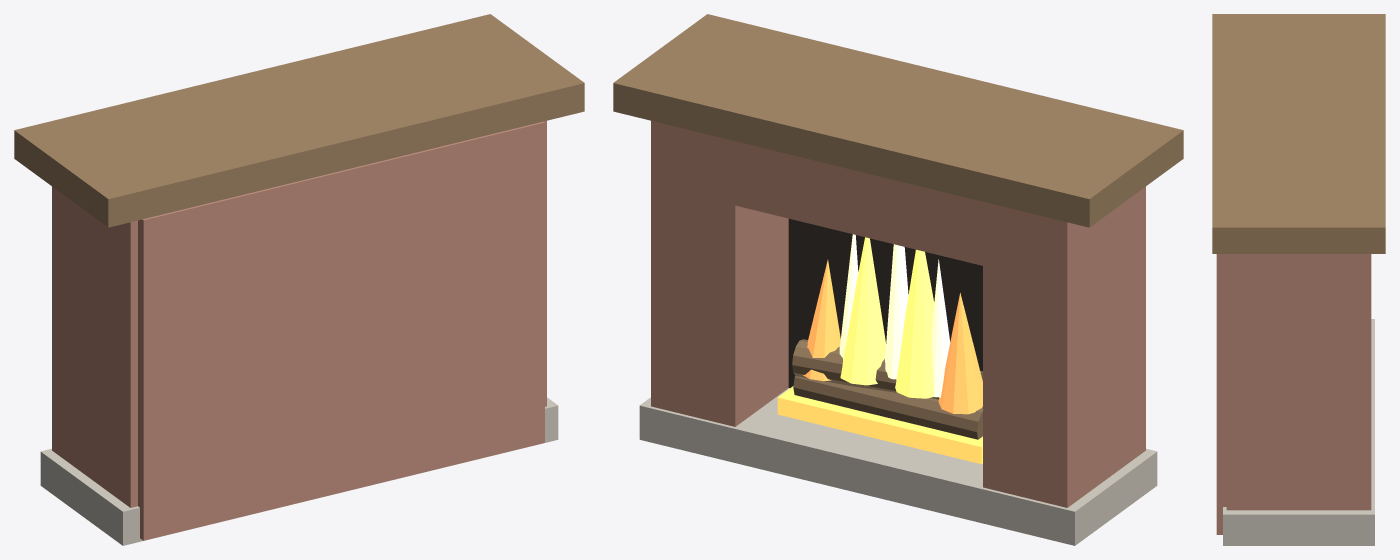
File: fireplace.glb
3 renders of one model, left to right at view 1: azimuth 30°, elevation 25°; view 2: azimuth 150°, elevation 25°; view 3: azimuth 270°, elevation 25°, orthographic. The views are drawn at different scales.
Parts seen in each view (by area): view 1: Cube, Cube.005, Cube.002, Cube.001; view 2: Cube.005, Cube.002, Cube.003, Cube.001, Cube.004, Cube.006, Cube.008, Cylinder, Cone.001, Cone.002, Cone, Cone.004 (+4 smaller); view 3: Cube.005, Cube.003, Cube.001, Cube.
Boxes of the visible parts, x1,y1,x2,y2 form: Cube: [138, 121, 544, 540]; Cube.005: [14, 14, 584, 227]; Cube.002: [52, 186, 137, 507]; Cube.001: [40, 397, 558, 545]; Cube.005: [613, 14, 1183, 227]; Cube.002: [983, 186, 1145, 507]; Cube.003: [651, 121, 788, 426]; Cube.001: [639, 388, 1157, 545]; Cube.004: [651, 121, 1066, 285]; Cube.006: [788, 218, 982, 387]; Cube.008: [777, 386, 982, 464]; Cylinder: [793, 375, 982, 439]; Cone.001: [895, 249, 934, 398]; Cone.002: [840, 237, 885, 385]; Cone: [938, 293, 982, 414]; Cone.004: [885, 244, 908, 379]; Cube.005: [1212, 14, 1385, 253]; Cube.003: [1226, 254, 1371, 510]; Cube.001: [1223, 319, 1374, 545]; Cube: [1216, 254, 1226, 534].
Bounding box in the file's own units: 3.5 × 2.51 × 1.2.
